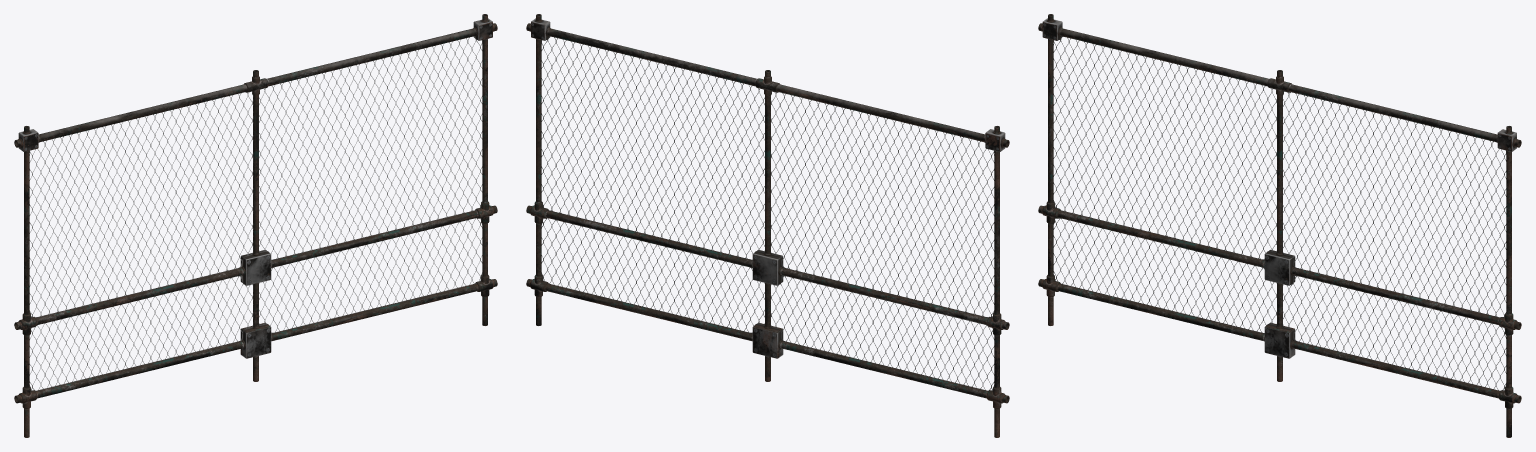
Rendered from fence.fbx.
The picture shows the model from 3 angles, left to right: view 1: azimuth 30°, elevation 25°; view 2: azimuth 150°, elevation 25°; view 3: azimuth 330°, elevation 25°; orthographic projection.
Parts seen in each view (by area): view 1: Fance_4_fance_0; view 2: Fance_4_fance_0; view 3: Fance_4_fance_0.
Boxes of the visible parts, x1,y1,x2,y2 form: Fance_4_fance_0: (14,14,497,437); Fance_4_fance_0: (526,14,1009,437); Fance_4_fance_0: (1038,14,1521,437).
Size of the model in its own units: 567 by 350 by 12.
1 material, 1 textured.
